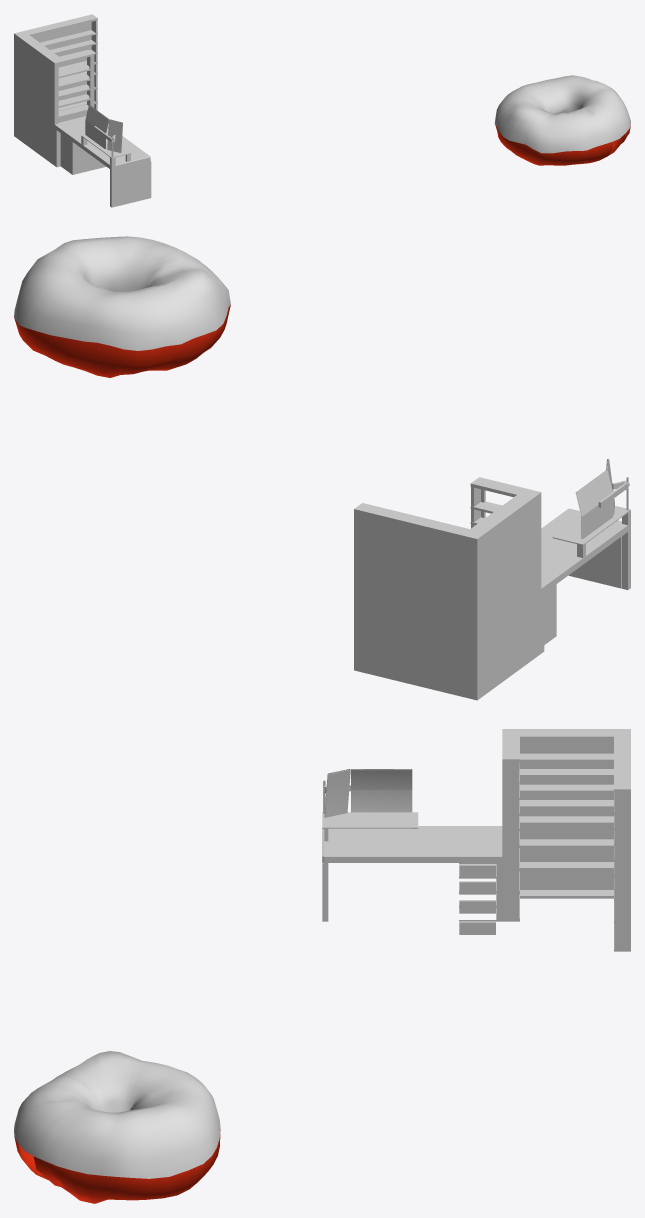
Rendered from deskTabliotheque.glb.
3 renders of one model, top to bottom at view 1: azimuth 30°, elevation 25°; view 2: azimuth 150°, elevation 25°; view 3: azimuth 270°, elevation 25°, orthographic. The views are drawn at different scales.
Visible parts, largest first — view 1: tabliotheque, icing, Torus, screen Vertical, screen Hhaut; view 2: tabliotheque, icing, Torus, screen Hhaut, screen Hbas; view 3: tabliotheque, icing, Torus, screen Hbas, screen Hhaut, screen Vertical.
Part boxes in pixels (<box>): tabliotheque: <box>14,14,151,207</box>; icing: <box>495,75,630,153</box>; Torus: <box>495,124,630,165</box>; screen Vertical: <box>107,119,122,152</box>; screen Hhaut: <box>85,105,108,133</box>; tabliotheque: <box>354,477,630,700</box>; icing: <box>14,236,230,350</box>; Torus: <box>14,305,230,377</box>; screen Hhaut: <box>575,470,612,515</box>; screen Hbas: <box>581,499,613,538</box>; tabliotheque: <box>322,729,630,951</box>; icing: <box>14,1051,220,1178</box>; Torus: <box>14,1130,220,1203</box>; screen Hbas: <box>351,789,412,812</box>; screen Hhaut: <box>351,769,412,789</box>; screen Vertical: <box>324,769,350,817</box>.
Bounding box in the file's own units: 11.35 × 2.49 × 8.58.
